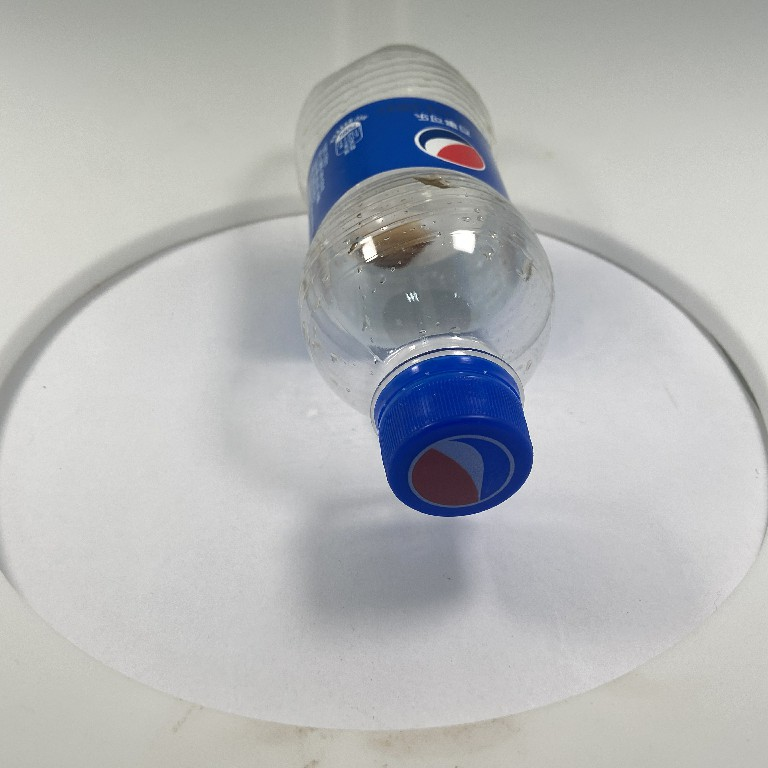bottle: (292, 35, 560, 518)
